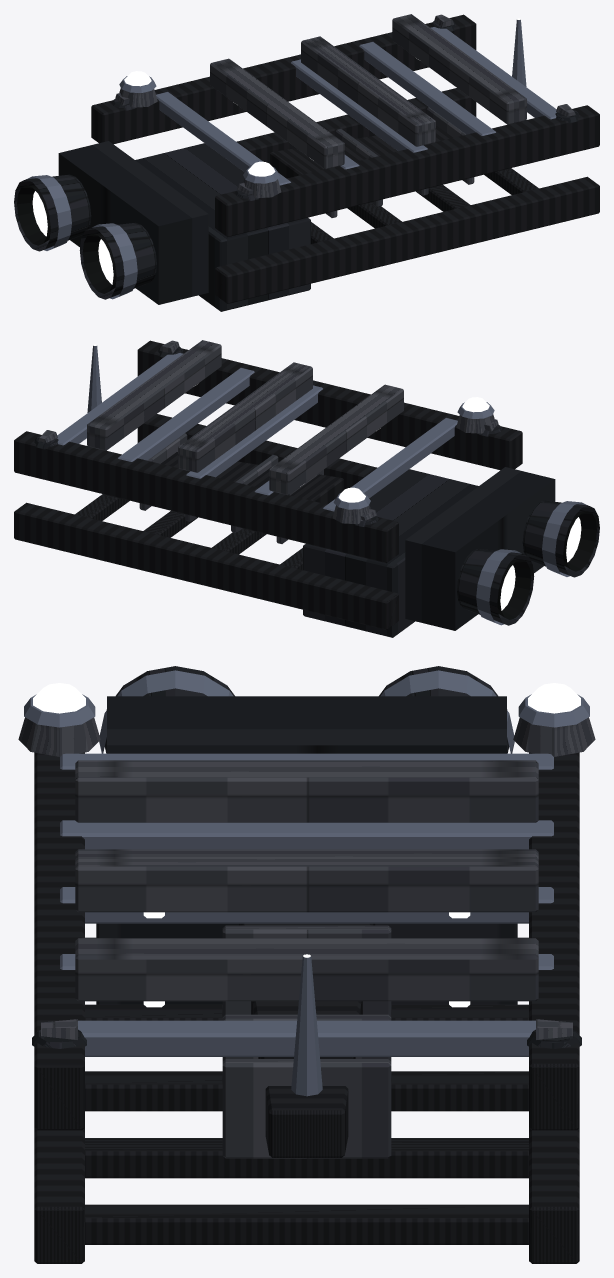
File: mobile_yard.glb
3 views of the same model, one above another, from view 1: azimuth 30°, elevation 25°; view 2: azimuth 150°, elevation 25°; view 3: azimuth 270°, elevation 25° (orthographic). The views are drawn at different scales.
Parts seen in each view (by area): view 1: hull_body, engine_block, shield_pylons, weapon_turrets, sensor_tower; view 2: hull_body, engine_block, shield_pylons, weapon_turrets, sensor_tower; view 3: hull_body, engine_block, shield_pylons, sensor_tower, weapon_turrets.
Part boxes in pixels (x1,y1,x2,y2): hull_body: (91,14,599,311); engine_block: (14,141,208,304); shield_pylons: (119,71,281,198); weapon_turrets: (111,14,579,200); sensor_tower: (512,18,526,86); hull_body: (14,340,522,637); engine_block: (405,467,599,630); shield_pylons: (332,397,494,524); weapon_turrets: (34,340,502,526); sensor_tower: (87,344,101,412); hull_body: (34,752,579,1263); engine_block: (99,666,514,753); shield_pylons: (18,683,595,756); sensor_tower: (291,954,322,1096); weapon_turrets: (32,1019,581,1048).
Bounding box in the file's own units: 75 × 25.98 × 40.11.
Materials: 1 (1 with a texture image).
